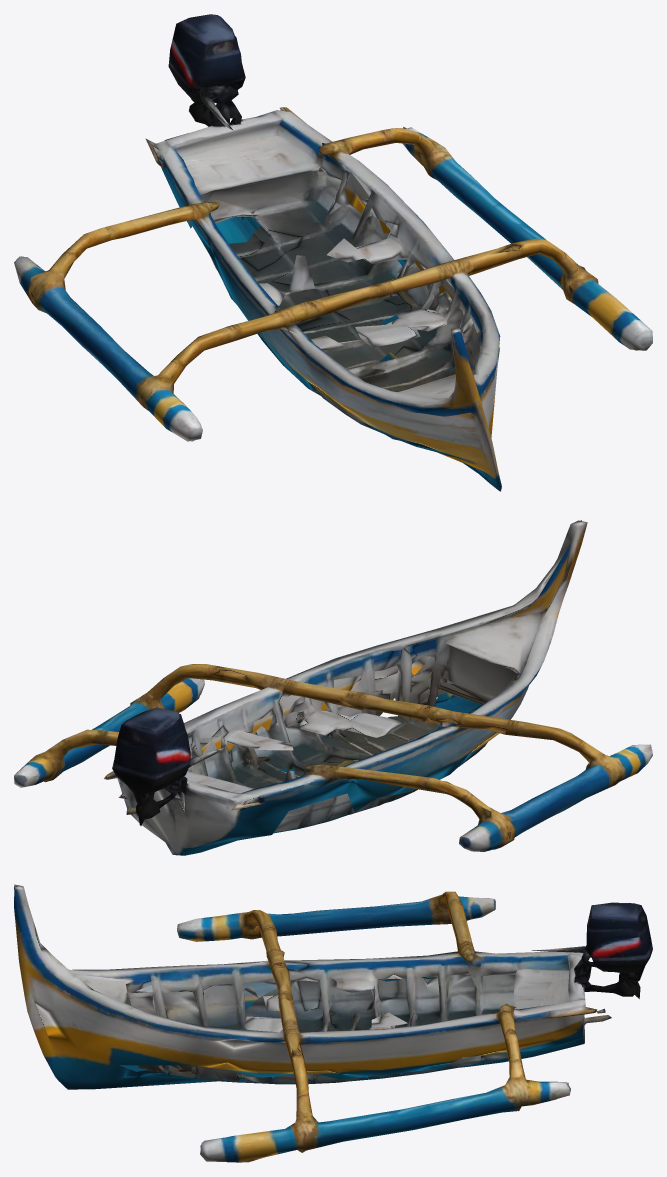
Rendered from bangka.glb.
The picture shows the model from 3 angles, top to bottom: view 1: azimuth 30°, elevation 25°; view 2: azimuth 150°, elevation 25°; view 3: azimuth 270°, elevation 25°; orthographic projection. The views are drawn at different scales.
Parts seen in each view (by area): view 1: geometry_0; view 2: geometry_0; view 3: geometry_0.
Boxes of the visible parts, x1,y1,x2,y2 form: geometry_0: [14, 14, 652, 491]; geometry_0: [14, 520, 652, 855]; geometry_0: [14, 884, 652, 1162].
Bounding box in the file's own units: 2.26 × 0.9999 × 2.99.
1 material, 1 textured.
